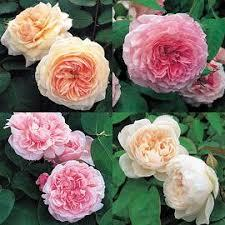Rose: (126, 11, 208, 102), (42, 34, 111, 114), (39, 165, 110, 225), (5, 0, 71, 64), (163, 154, 219, 225), (2, 114, 80, 162), (120, 117, 185, 174)
